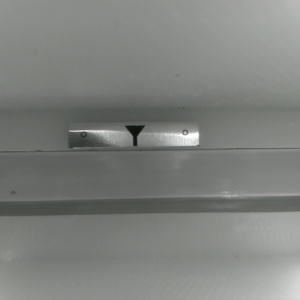finger: (125, 126, 144, 145)
